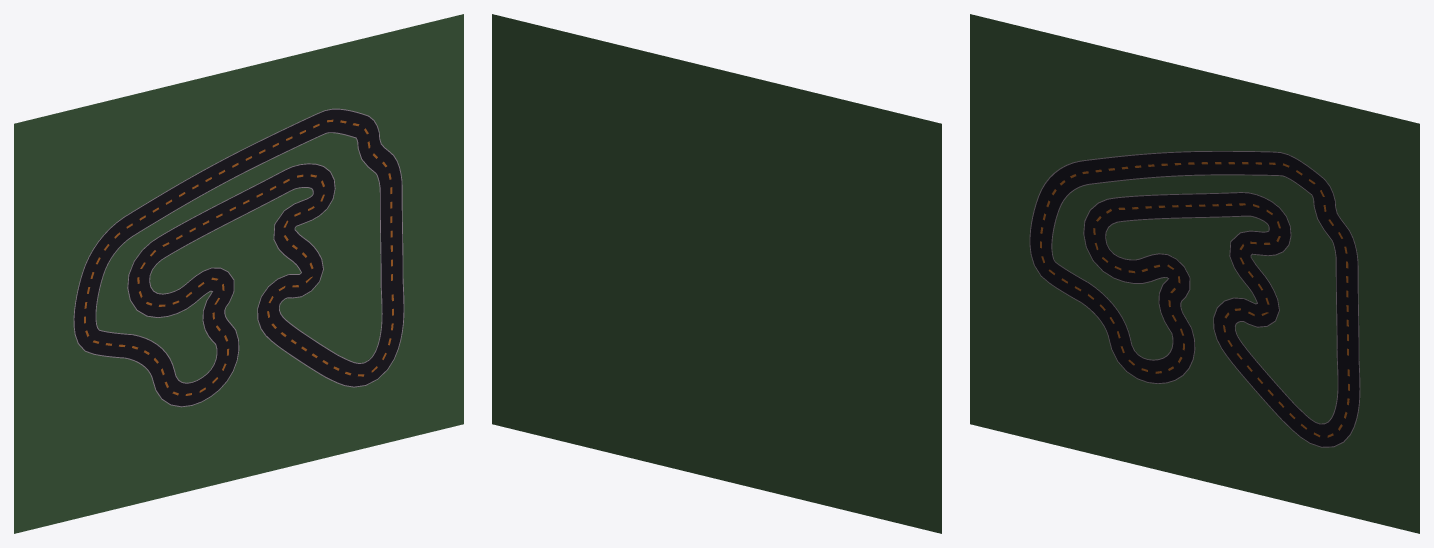
Rendered from track.obj.
3 views of the same model, side by side, from view 1: azimuth 30°, elevation 25°; view 2: azimuth 150°, elevation 25°; view 3: azimuth 330°, elevation 25° (orthographic).
Bounding box in the file's own units: 21.09 × 18.38 × 0.0025.
Materials: 4 (4 with a texture image).
